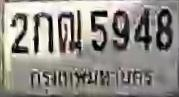2: (9, 12, 27, 52)
4: (134, 7, 151, 50)
5: (89, 9, 107, 51)
8: (155, 8, 172, 49)
9: (111, 9, 129, 50)
A01: (32, 11, 53, 53)
A18: (57, 9, 81, 53)
BKK: (28, 64, 154, 93)
